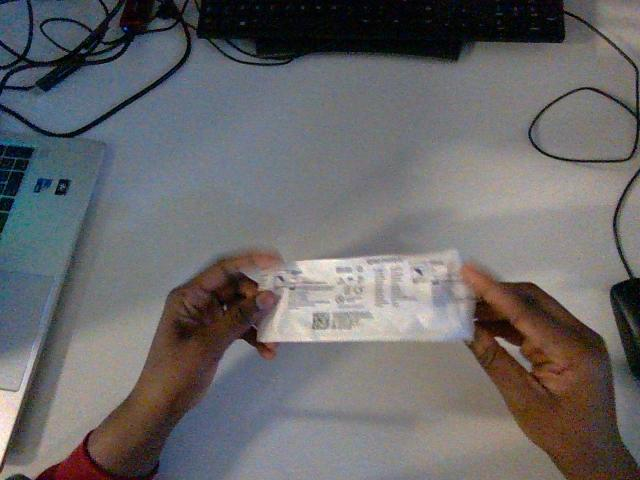syringe: (258, 250, 474, 341)
